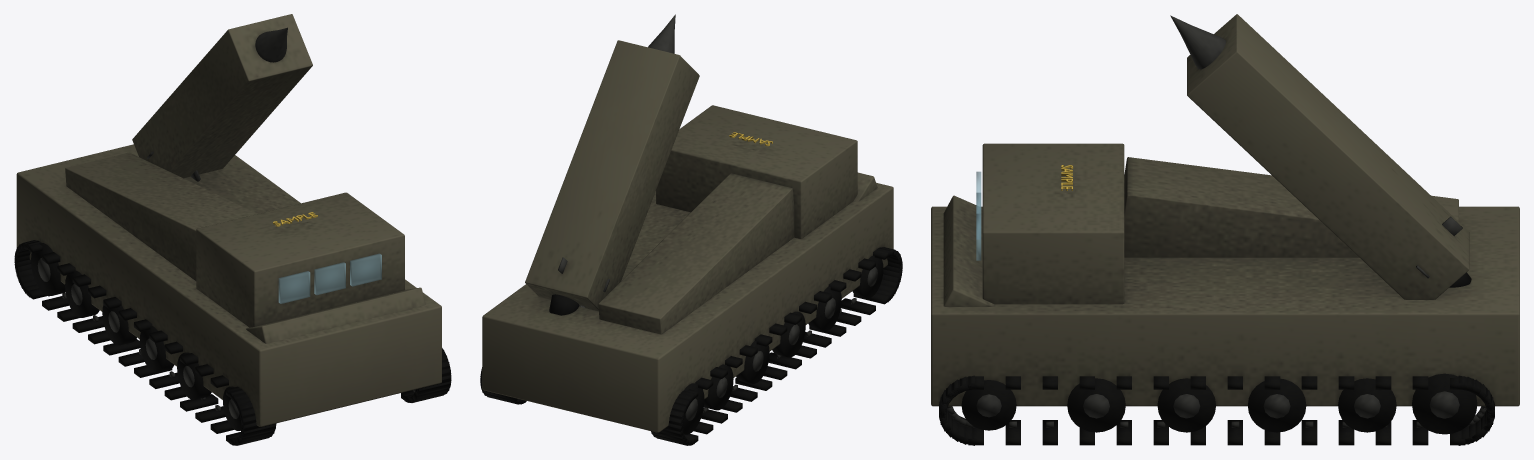
File: sphere-atacms-later-block.glb
3 views of the same model, side by side, from view 1: azimuth 30°, elevation 25°; view 2: azimuth 150°, elevation 25°; view 3: azimuth 270°, elevation 25° (orthographic). The views are drawn at different scales.
Parts seen in each view (by area): view 1: hull, glass_0, glass_2, glass_1; view 2: hull; view 3: hull.
Boxes of the visible parts, left/top/right/bottom form: hull: left=14, top=14, right=451, bottom=445; glass_0: left=278, top=271, right=310, bottom=303; glass_2: left=350, top=253, right=381, bottom=286; glass_1: left=314, top=262, right=345, bottom=294; hull: left=480, top=14, right=902, bottom=445; hull: left=931, top=14, right=1519, bottom=445.
Bounding box in the file's own units: 3.36 × 5.02 × 6.85.
Materials: 2 (1 with a texture image).
